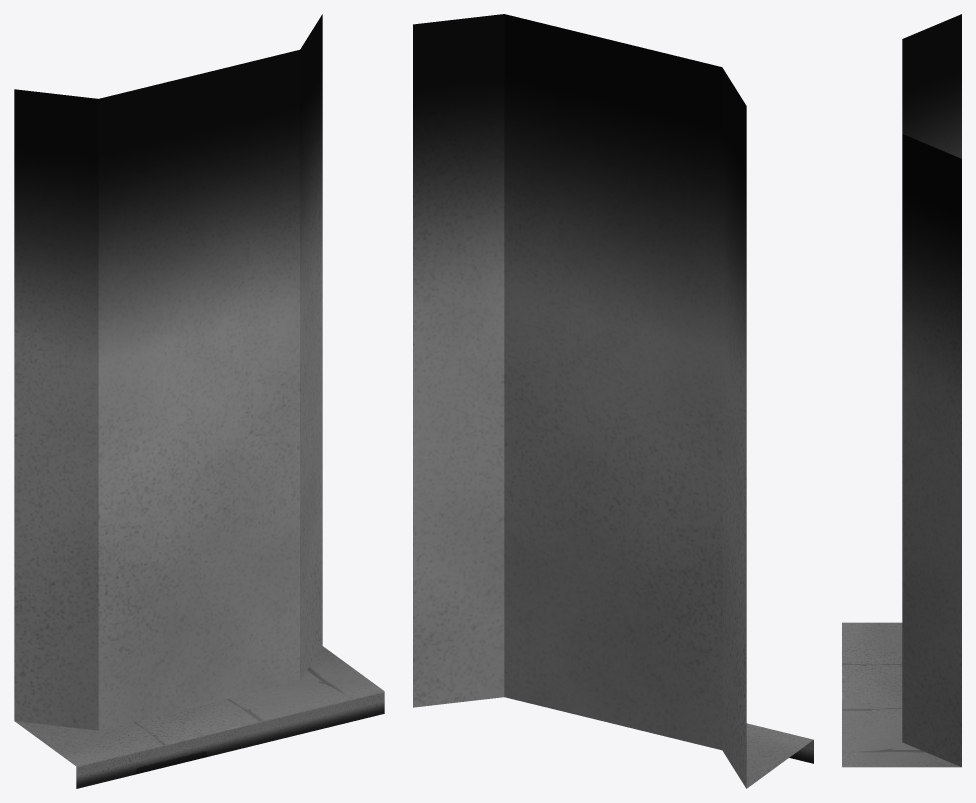
File: WallBlock.FBX
3 views of the same model, side by side, from view 1: azimuth 30°, elevation 25°; view 2: azimuth 150°, elevation 25°; view 3: azimuth 270°, elevation 25° (orthographic). The views are drawn at different scales.
Visible parts, largest first — view 1: WallBlock; view 2: WallBlock; view 3: WallBlock.
Part boxes in pixels (x1,y1,x2,y2): WallBlock: (14,14,384,788); WallBlock: (413,14,813,788); WallBlock: (842,14,961,767).
Bounding box in the file's own units: 1.5 × 0.5249 × 3.04.
Materials: 1 (1 with a texture image).
